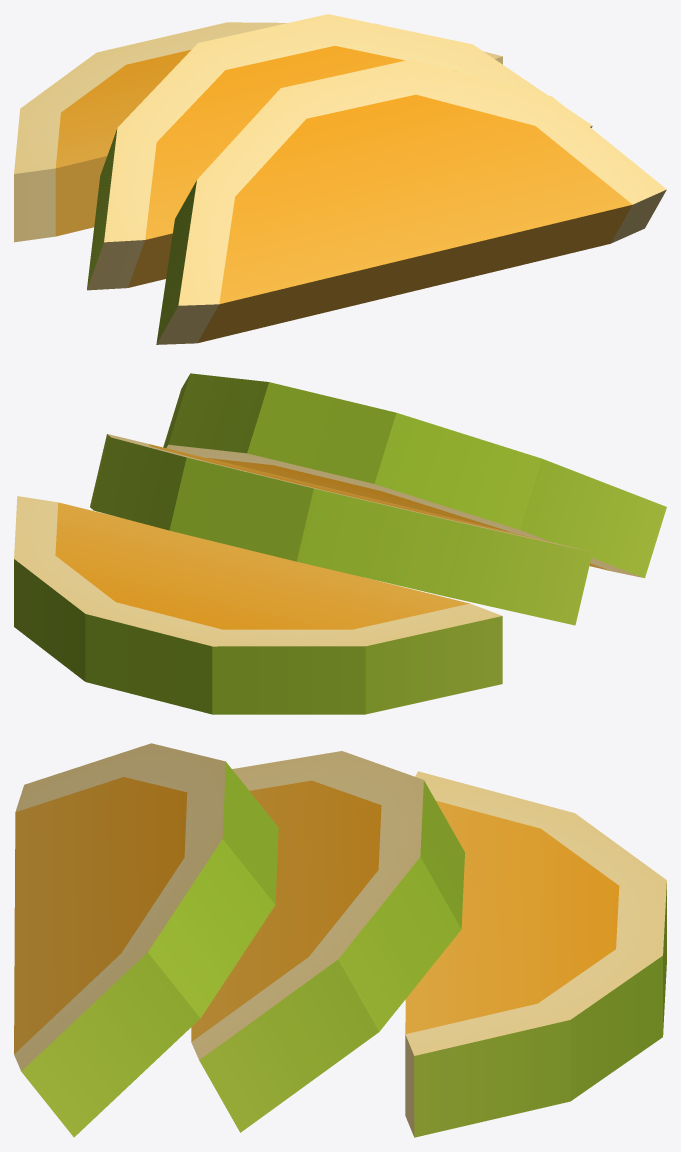
File: Pomelo Slice.fbx
3 views of the same model, one above another, from view 1: azimuth 30°, elevation 25°; view 2: azimuth 150°, elevation 25°; view 3: azimuth 270°, elevation 25° (orthographic). The views are drawn at different scales.
Parts seen in each view (by area): view 1: Pomelo Slice.002, Pomelo Slice.001, Pomelo Slice; view 2: Pomelo Slice, Pomelo Slice.002, Pomelo Slice.001; view 3: Pomelo Slice.002, Pomelo Slice, Pomelo Slice.001.
Boxes of the visible parts, left/top/right/bottom form: Pomelo Slice.002: left=156, top=59, right=666, bottom=344; Pomelo Slice.001: left=87, top=14, right=592, bottom=290; Pomelo Slice: left=14, top=22, right=502, bottom=242; Pomelo Slice: left=14, top=496, right=502, bottom=714; Pomelo Slice.002: left=163, top=373, right=666, bottom=578; Pomelo Slice.001: left=90, top=434, right=592, bottom=625; Pomelo Slice.002: left=14, top=743, right=278, bottom=1137; Pomelo Slice: left=405, top=771, right=666, bottom=1137; Pomelo Slice.001: left=191, top=751, right=464, bottom=1132.
Bounding box in the file's own units: 17.72 × 5.95 × 17.17.
